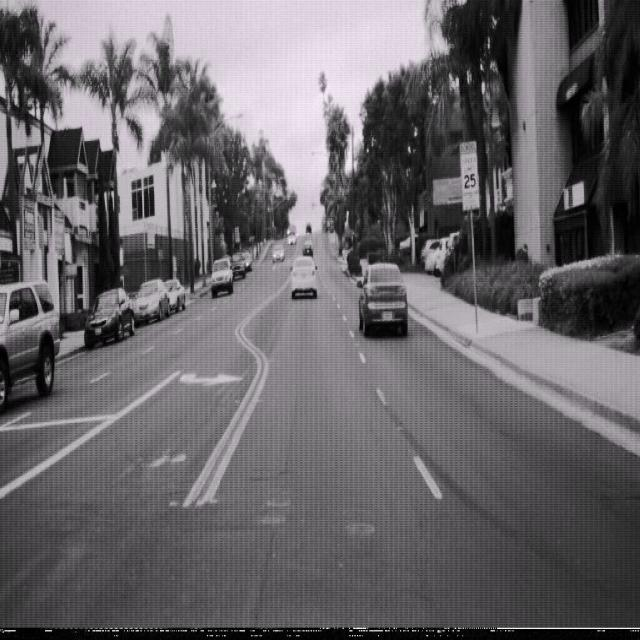speedLimit25: (459, 140, 480, 211)
